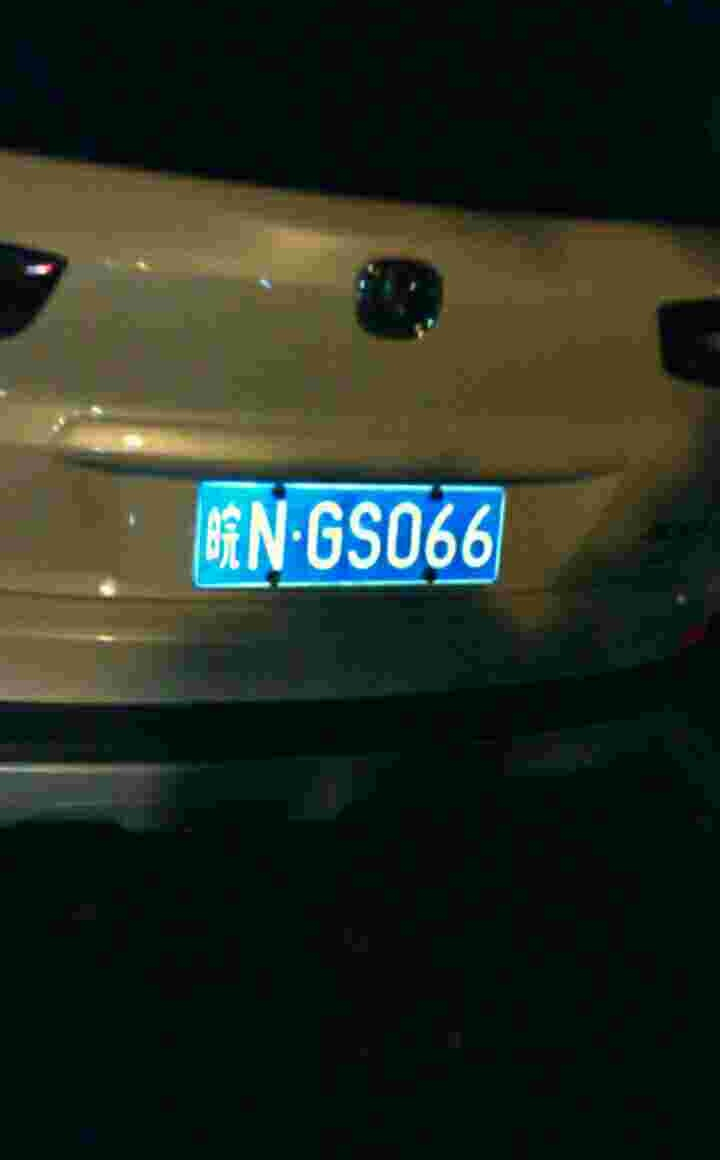license_plate: (184, 483, 496, 595)
